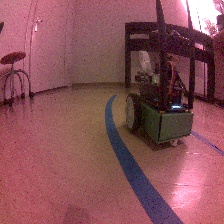rob: (124, 57, 194, 147)
